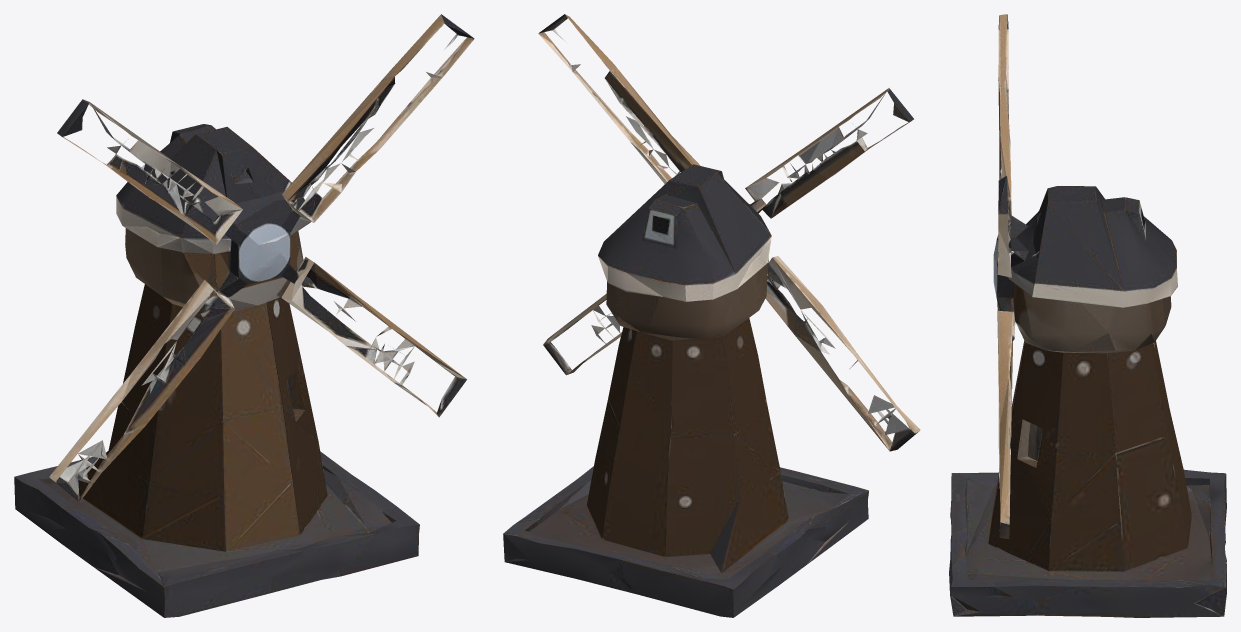
Rendered from farMill.glb.
3 renders of one model, left to right at view 1: azimuth 30°, elevation 25°; view 2: azimuth 150°, elevation 25°; view 3: azimuth 270°, elevation 25°, orthographic. The views are drawn at different scales.
Size of the model in its own units: 1.63 by 1.9 by 1.02.
1 material, 1 textured.
